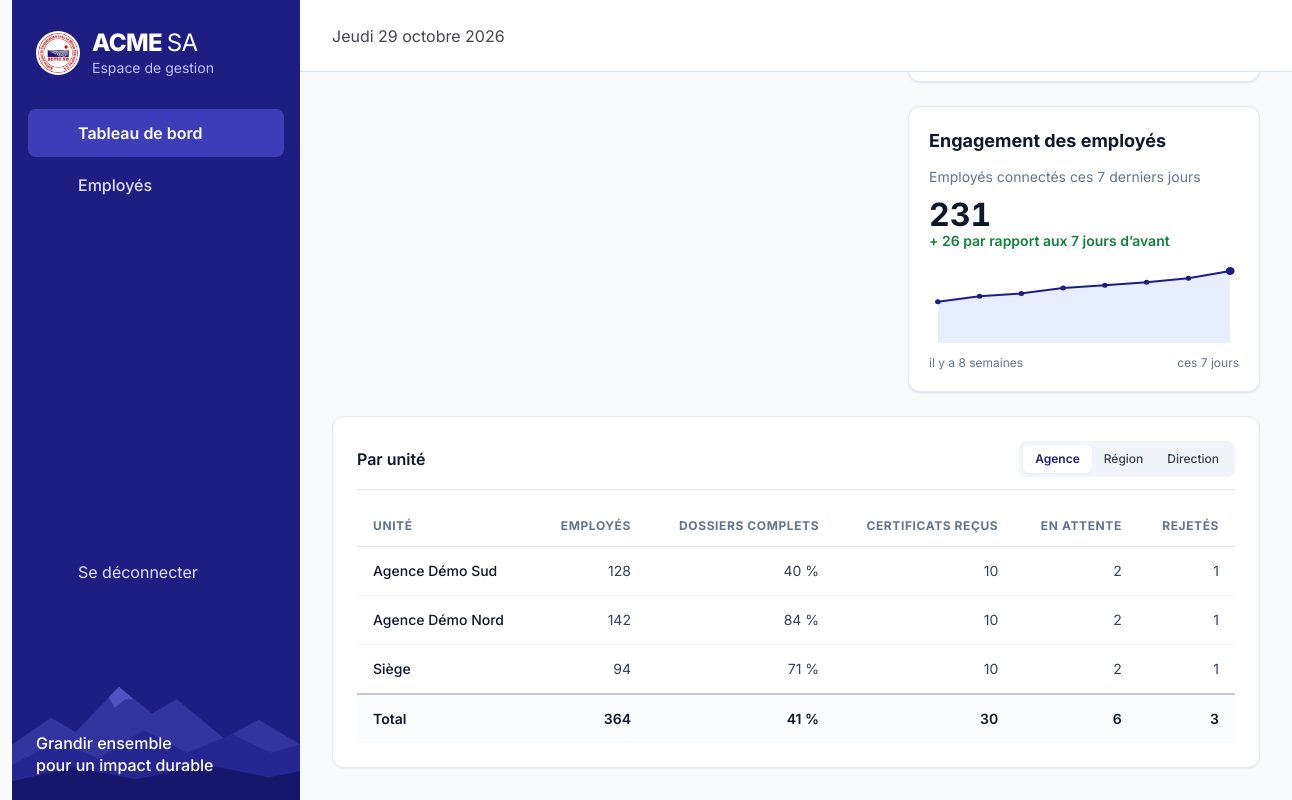
Test: US-132 CA-06 — le tableau par unité, en bas › bascule entre agence, région et direction ; la répartition et « Rejetés ce mois » sont retirées
(page scrolled)
Check: the text "Agence Démo Nord" is shown, box [357,596,535,645]
Click the button "Région" at (1124, 459), box [1092,445,1155,473]
(page scrolled)
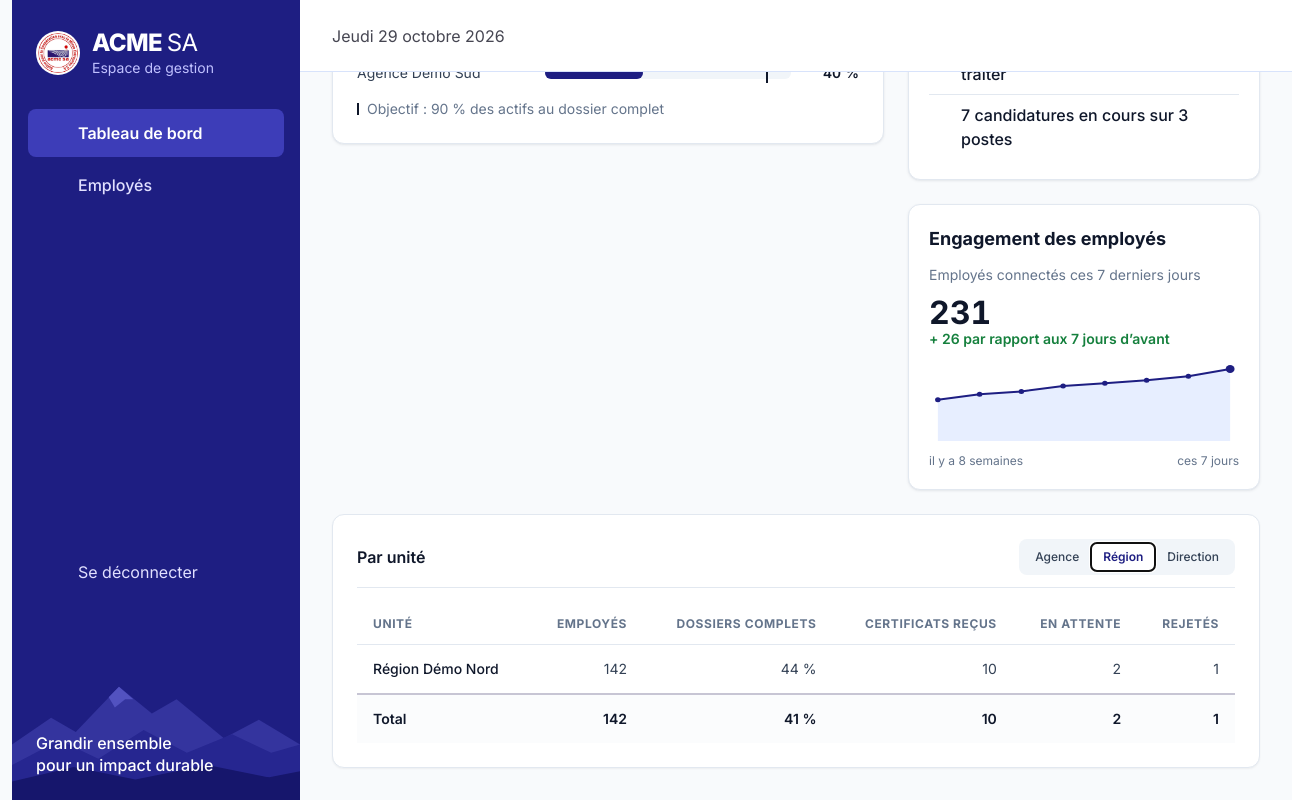
Check: the text "Région Démo Nord" is shown, box [357,645,531,694]
Click the button "Direction" at (1193, 557), box [1155,543,1231,571]
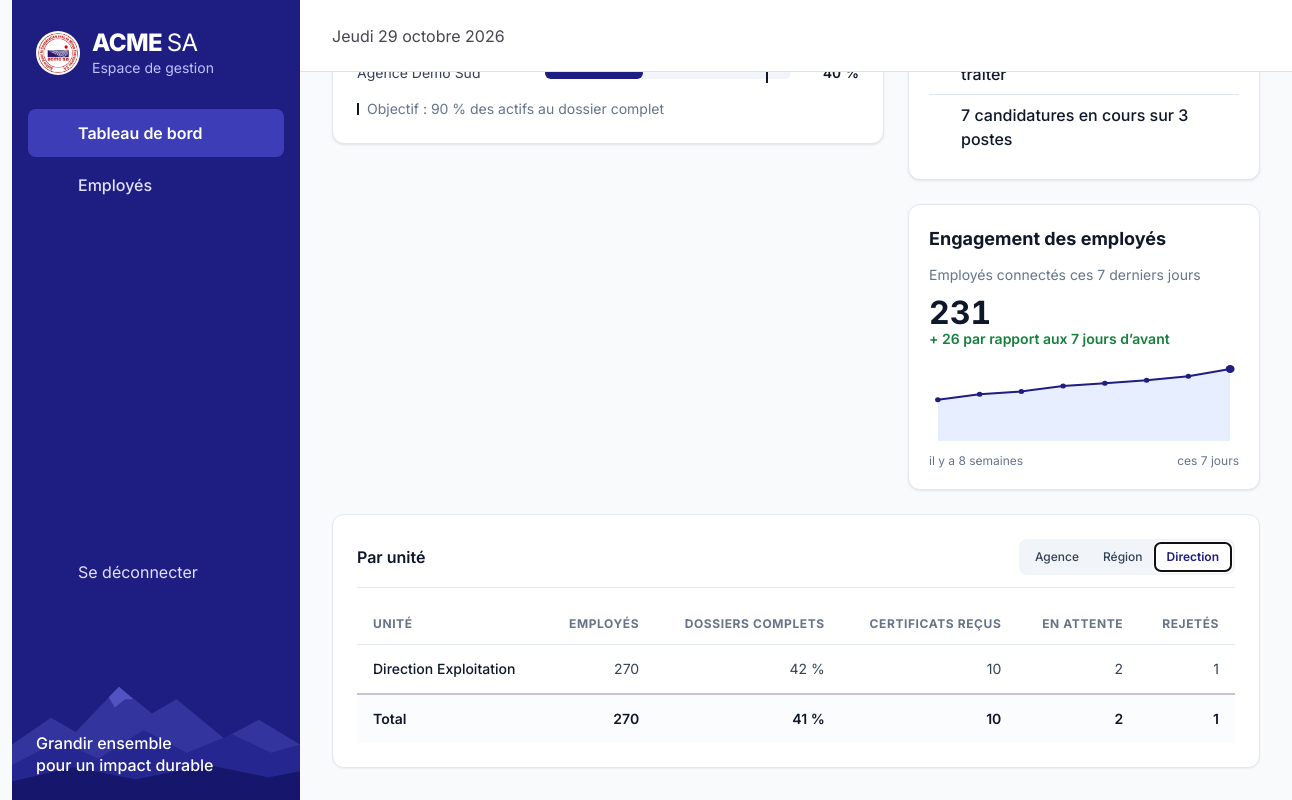
Check: the text "Direction Exploitation" is shown, box [357,645,545,694]
